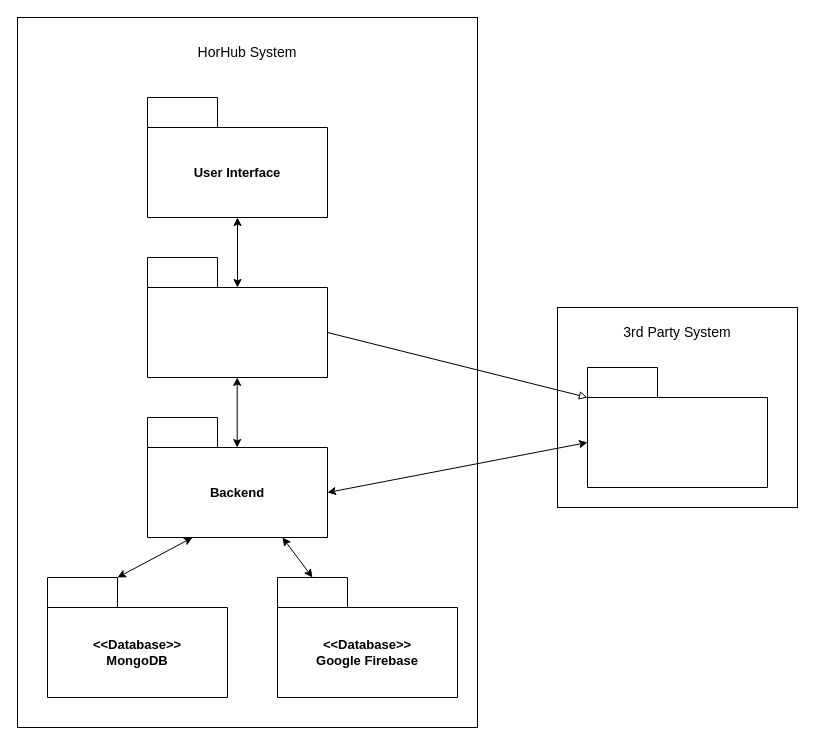
Image size: 815x745. Some labels were removed from this diagram. The shapes that lost their labels are listed below. From the top down, each one's centre as x and y in pixels, then its label:
At point 237,317: "Frontend".
At point 677,427: "Stripe".
